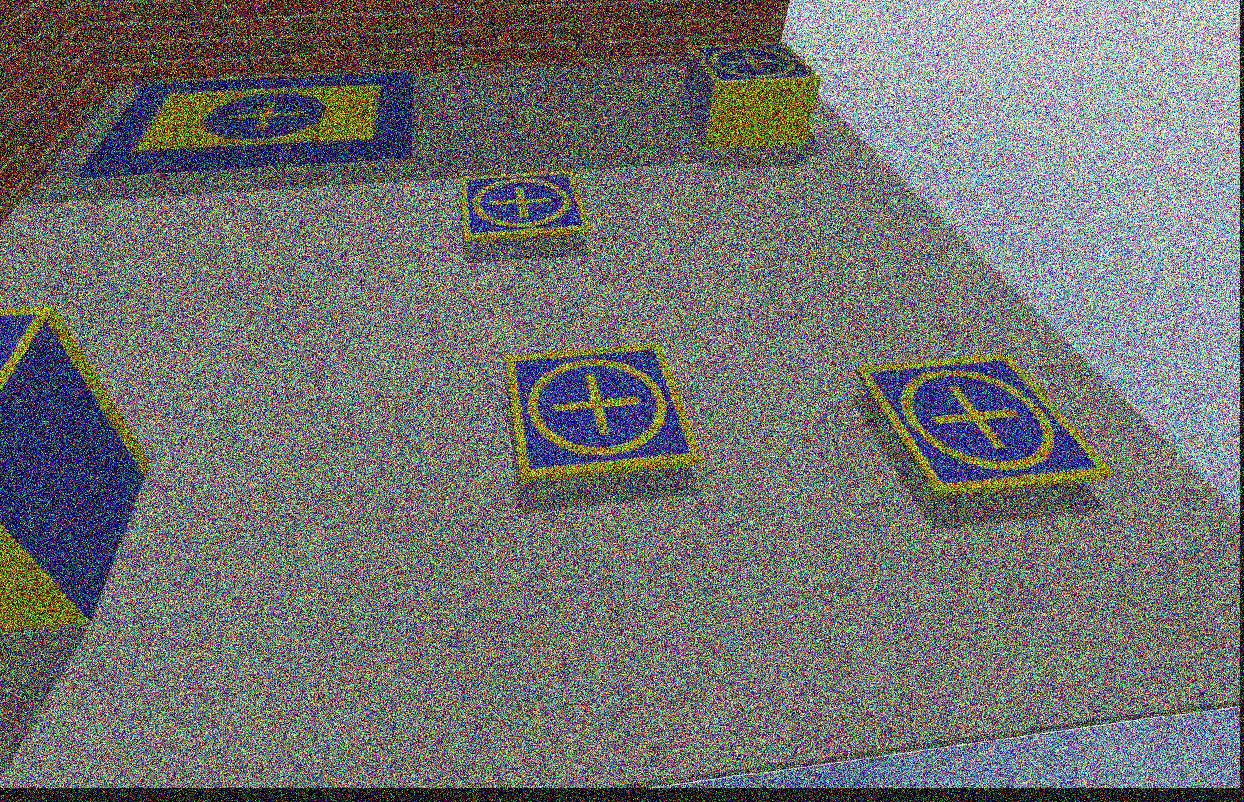large_base: (80, 70, 423, 177)
small_base: (858, 351, 1112, 496), (510, 344, 704, 492), (462, 168, 594, 240), (688, 38, 820, 86), (0, 302, 56, 394)
